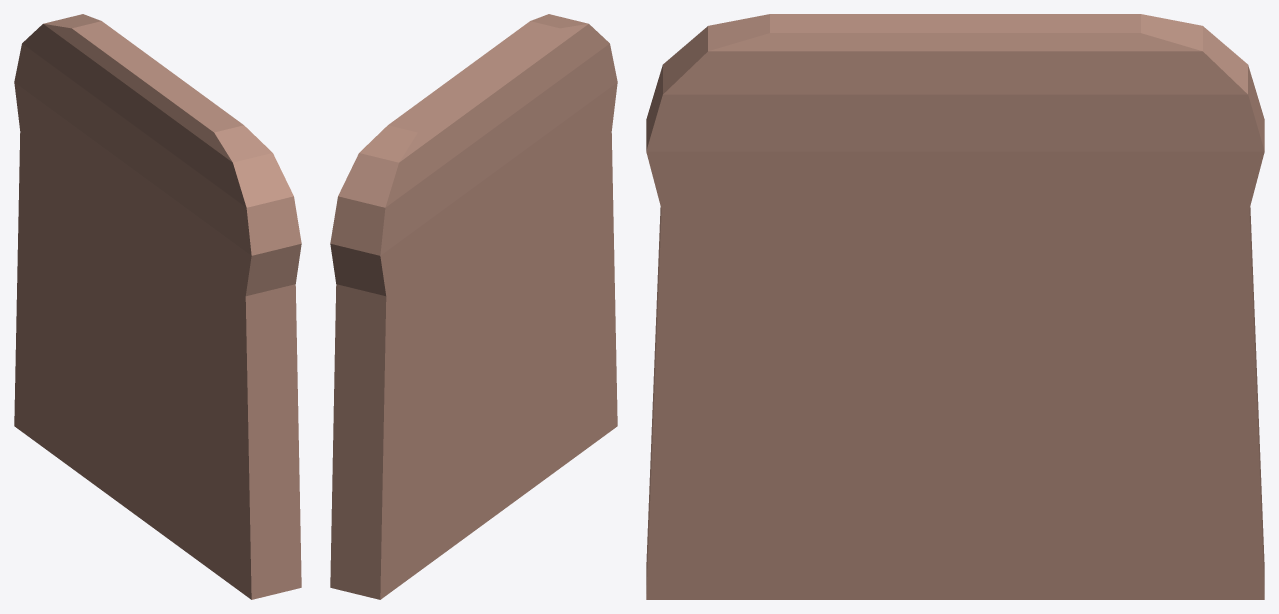
The model's file is toast.gltf.
3 renders of one model, left to right at view 1: azimuth 30°, elevation 25°; view 2: azimuth 150°, elevation 25°; view 3: azimuth 270°, elevation 25°, orthographic. The views are drawn at different scales.
Parts seen in each view (by area): view 1: Toast; view 2: Toast; view 3: Toast.
Part boxes in pixels (x1,y1,x2,y2): Toast: [14, 14, 301, 599]; Toast: [330, 14, 617, 599]; Toast: [646, 14, 1264, 599].
Bounding box in the file's own units: 0.1218 × 1 × 1.
1 material, 1 textured.
